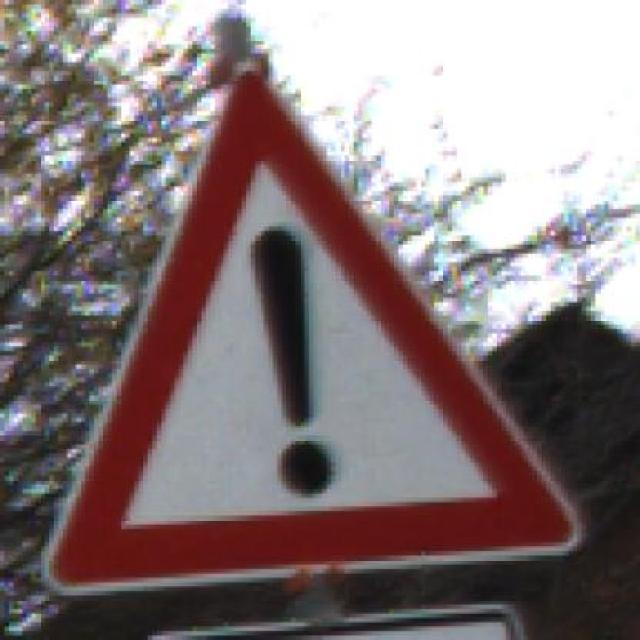Attention Please-: (32, 62, 590, 596)
